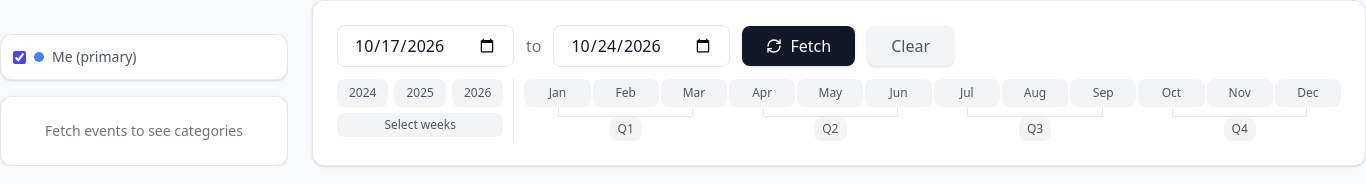
Test case: Dashboard › does not fetch when the dates have been cleared
Step 1. Click the button "Clear" → {"x": 911, "y": 46}, box [867,26,954,66]
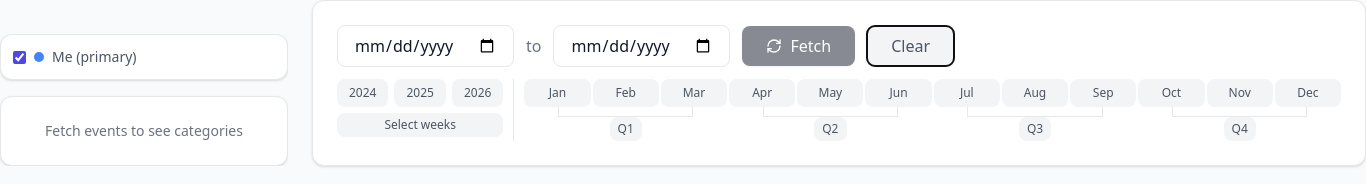
Now the button "Fetch" is disabled, box [742,26,855,66]
